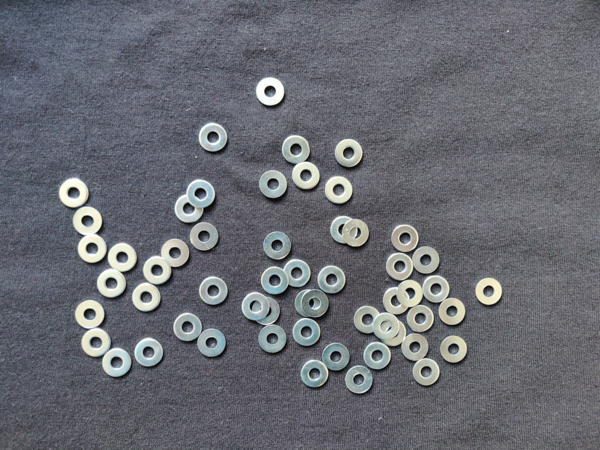circle: (71, 300, 108, 334), (76, 329, 112, 363), (73, 233, 109, 265), (409, 358, 442, 392), (134, 337, 168, 370), (101, 348, 136, 380), (68, 206, 105, 236), (58, 176, 89, 211), (342, 363, 374, 396), (129, 283, 162, 314), (97, 268, 128, 301), (256, 169, 287, 202), (108, 242, 139, 274), (281, 134, 313, 165), (323, 174, 355, 205), (186, 223, 219, 253), (197, 122, 228, 153), (196, 328, 228, 358), (263, 228, 293, 260), (172, 193, 204, 223), (186, 179, 218, 209), (438, 335, 471, 364), (257, 325, 290, 354), (173, 311, 203, 342), (294, 289, 324, 320), (256, 78, 287, 108), (301, 359, 331, 389), (240, 293, 270, 323), (161, 238, 190, 269), (321, 344, 351, 373), (143, 256, 173, 285), (390, 224, 419, 254), (473, 279, 503, 308), (400, 333, 431, 361), (437, 298, 468, 326), (293, 318, 322, 347), (302, 289, 331, 318), (283, 259, 312, 288), (422, 275, 451, 304), (293, 162, 322, 191), (250, 298, 280, 326), (413, 245, 440, 276), (329, 213, 356, 244), (379, 319, 407, 348), (261, 268, 289, 297), (317, 267, 346, 295), (382, 287, 410, 316), (407, 305, 435, 334), (335, 141, 365, 168), (364, 344, 392, 372), (201, 277, 229, 305), (344, 220, 371, 248), (354, 306, 380, 334), (386, 255, 414, 280), (397, 281, 423, 307), (374, 314, 399, 340)
